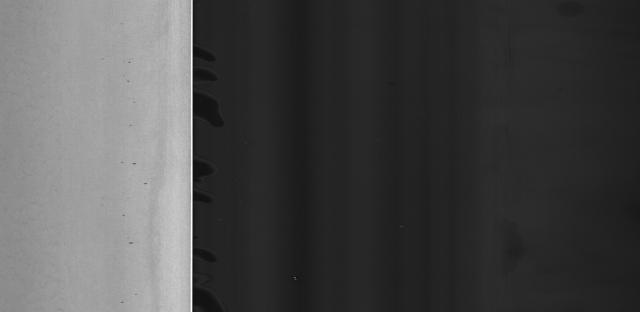inclusion: (119, 156, 139, 169), (121, 234, 139, 248), (138, 180, 152, 193)
silk_spot: (0, 32, 59, 307)
